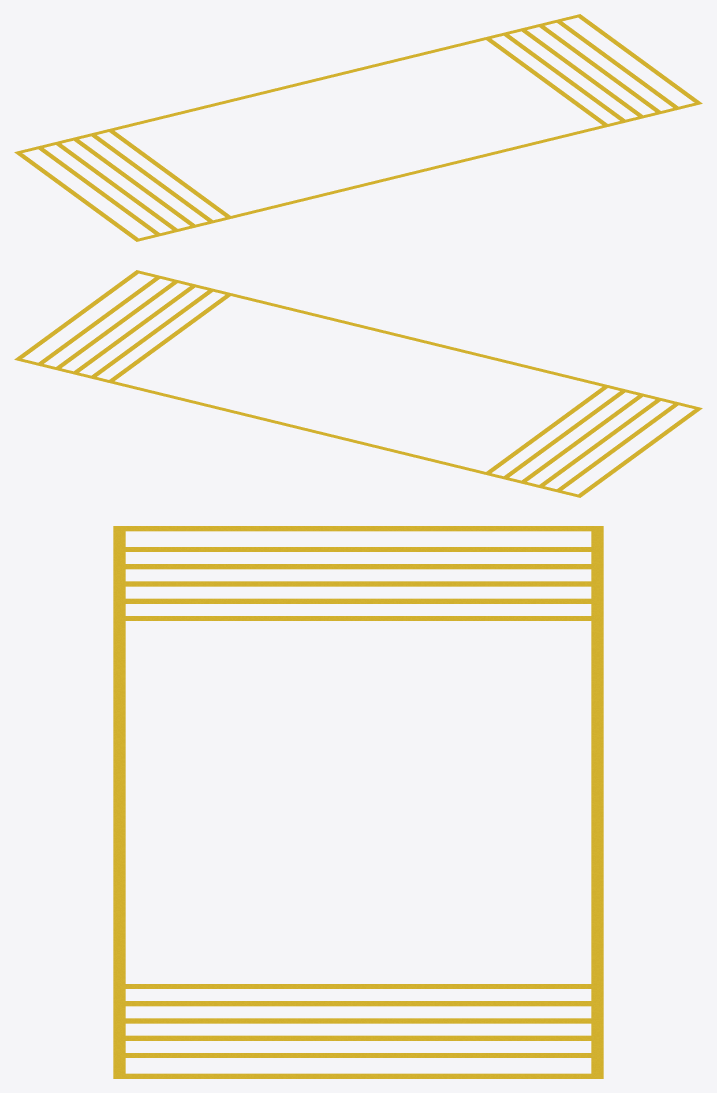
Rendered from pickup_bay.glb.
3 views of the same model, one above another, from view 1: azimuth 30°, elevation 25°; view 2: azimuth 150°, elevation 25°; view 3: azimuth 270°, elevation 25° (orthographic). The views are drawn at different scales.
Parts seen in each view (by area): view 1: pickup_bay; view 2: pickup_bay; view 3: pickup_bay.
Part boxes in pixels (<box>): pickup_bay: <box>14,14,702,241</box>; pickup_bay: <box>14,270,702,497</box>; pickup_bay: <box>113,526,603,1078</box>.
Bounding box in the file's own units: 16 × 0 × 6.
Materials: 1 (1 with a texture image).
